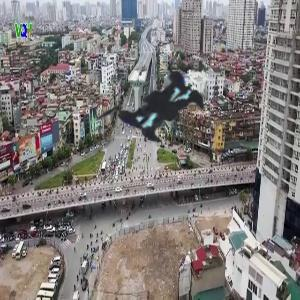drone: (57, 1, 260, 204)
